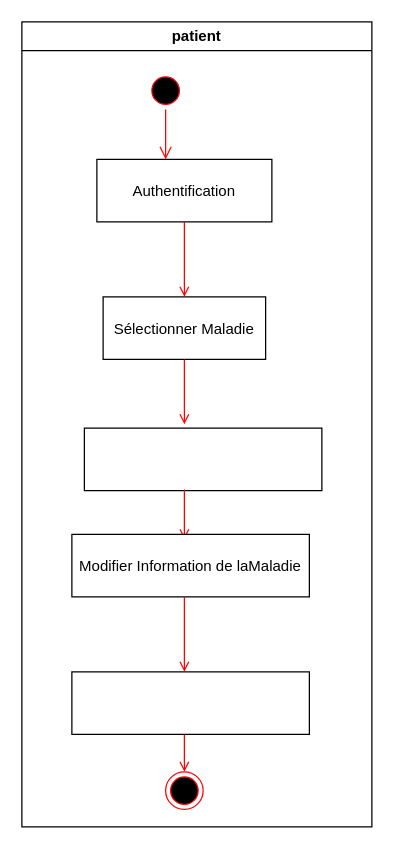
Image size: 394x849. Some labels were removed from this diagram. Here are the shapes that lost their labels. From the top down, the centre of each, then its label:
At (x=202, y=459): "Afficher Informations sur la Maladie".
At (x=190, y=702): "Supprimer Maladie".
